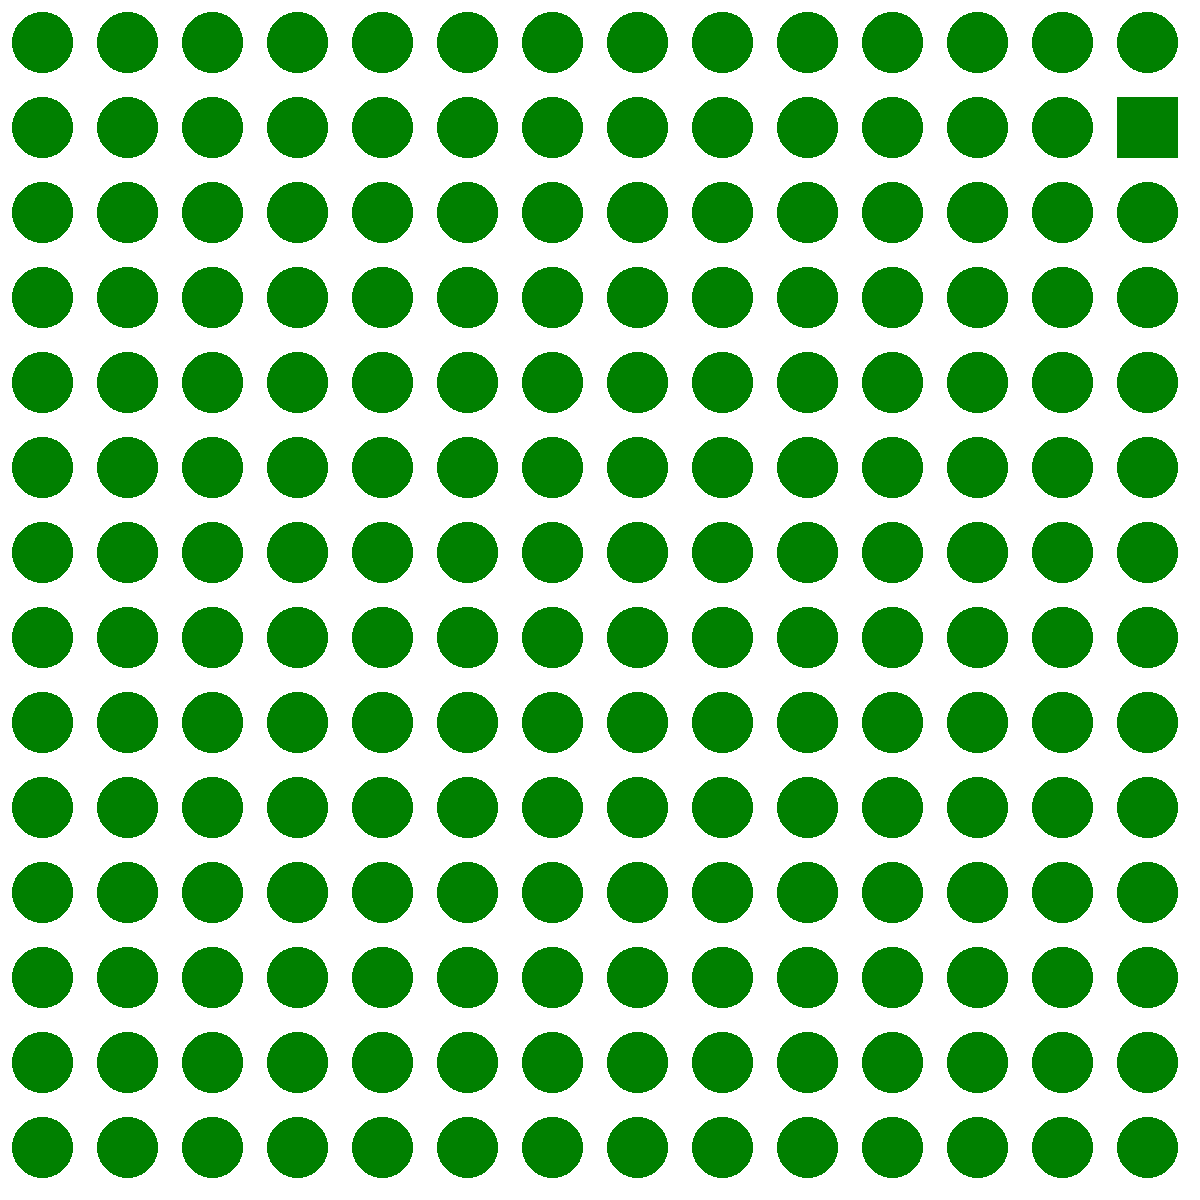Green-square: (1116, 97, 1177, 157)
